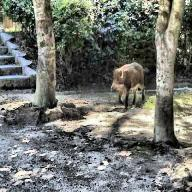boar: (108, 60, 150, 122)
